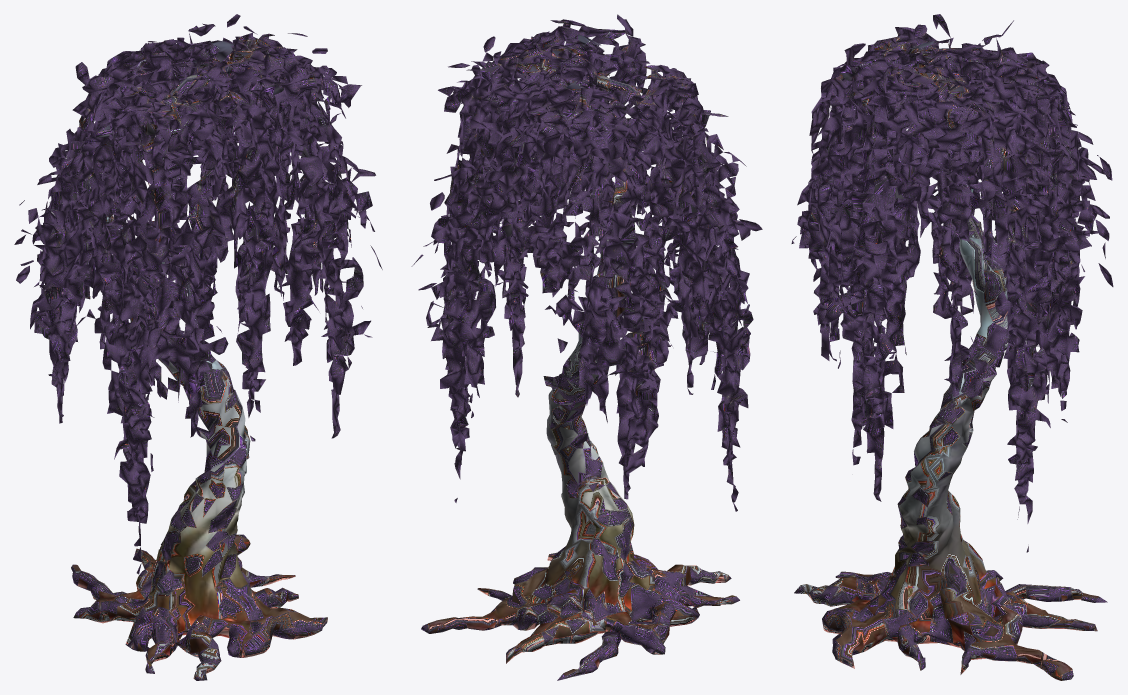
The picture shows the model from 3 angles, left to right: view 1: azimuth 30°, elevation 25°; view 2: azimuth 150°, elevation 25°; view 3: azimuth 270°, elevation 25°; orthographic projection. The views are drawn at different scales.
Size of the model in its own units: 1.04 by 1.9 by 0.937.
1 material, 1 textured.
